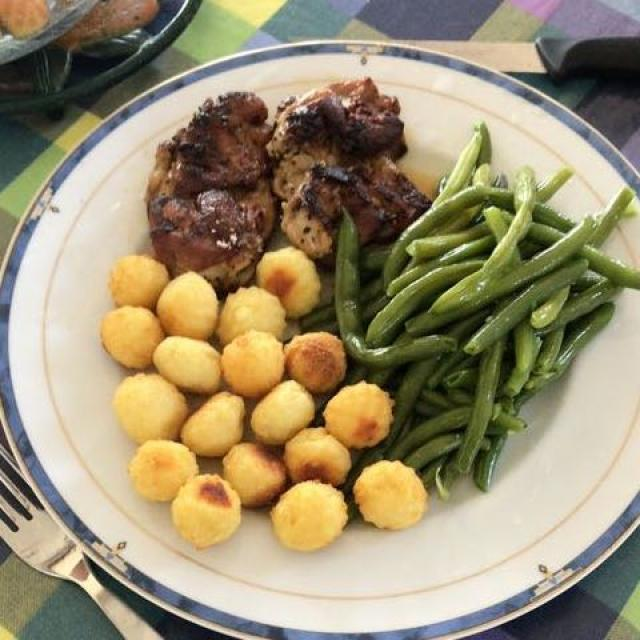chicken-breast: (147, 78, 418, 288)
french-beans: (318, 119, 630, 490)
